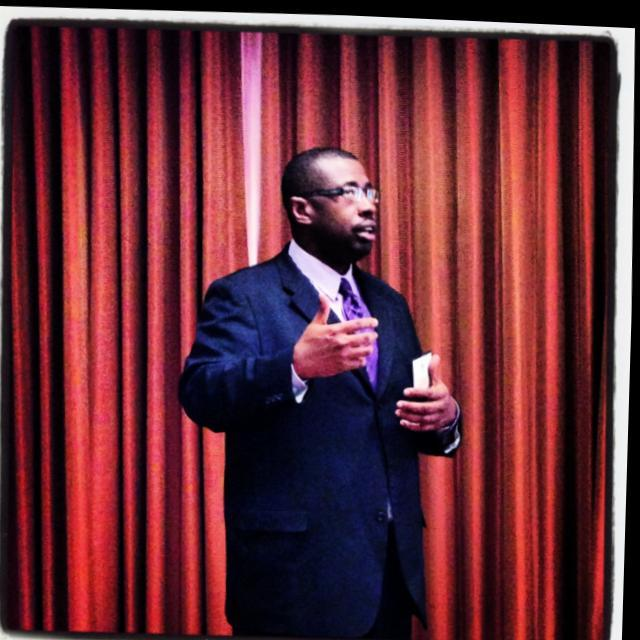Nonhelmet: (266, 130, 387, 276)
